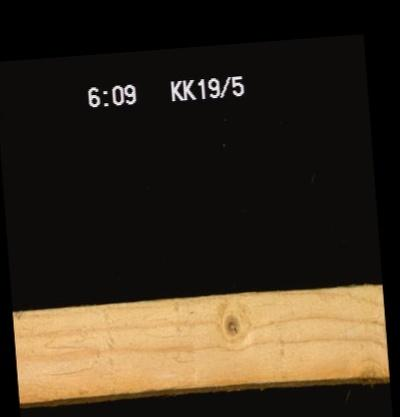sound_knot: (220, 311, 243, 338)
